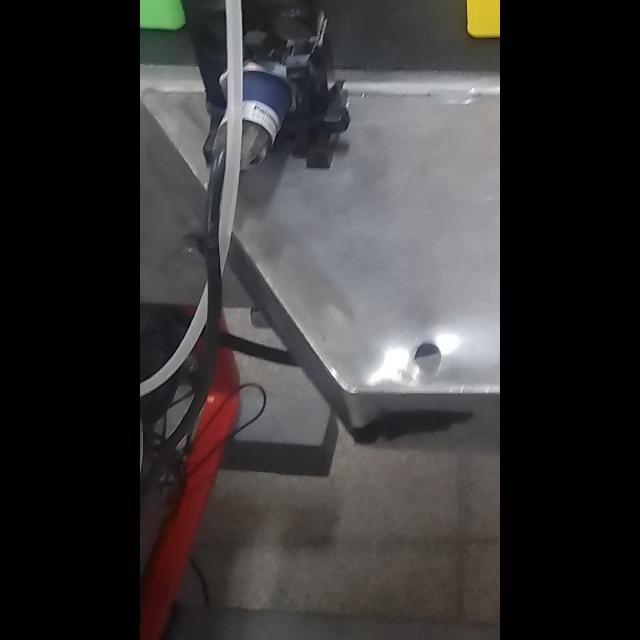yellowBox: (456, 1, 499, 52)
